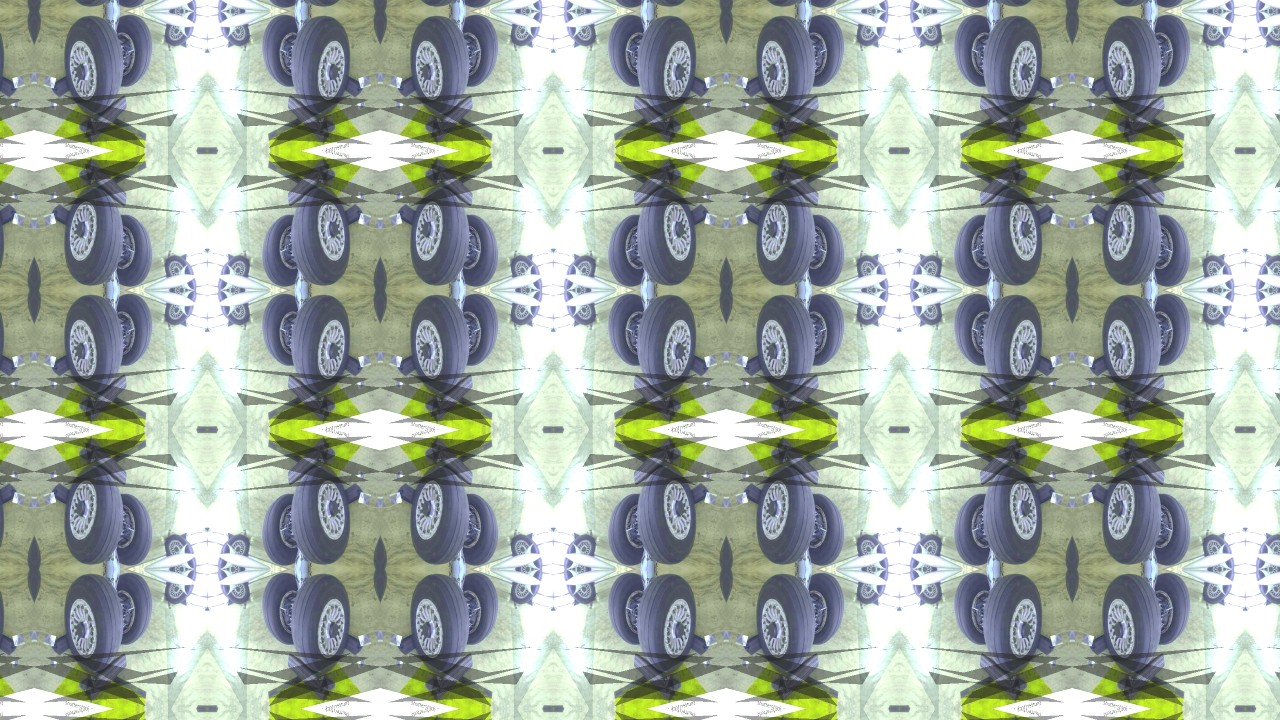chock: (78, 86, 129, 149), (283, 86, 334, 149), (425, 86, 476, 149), (630, 86, 681, 149), (772, 86, 823, 149), (977, 86, 1028, 149), (1119, 86, 1170, 149), (78, 151, 129, 214), (283, 151, 334, 214), (425, 151, 476, 214), (630, 151, 681, 214), (772, 151, 823, 214), (977, 151, 1028, 214), (1119, 151, 1170, 214), (78, 366, 129, 429), (283, 366, 334, 429), (425, 366, 476, 429), (630, 366, 681, 429), (772, 366, 823, 429), (977, 366, 1028, 429), (1119, 366, 1170, 429), (78, 431, 129, 494), (283, 431, 334, 494), (425, 431, 476, 494), (630, 431, 681, 494), (772, 431, 823, 494), (977, 431, 1028, 494), (1119, 431, 1170, 494), (78, 646, 129, 709), (283, 646, 334, 709), (425, 646, 476, 709), (630, 646, 681, 709), (772, 646, 823, 709), (977, 646, 1028, 709), (1119, 646, 1170, 709), (48, 68, 81, 100), (331, 68, 364, 100), (395, 68, 428, 100), (678, 68, 711, 100), (742, 68, 775, 100), (1025, 68, 1058, 100), (1089, 68, 1122, 100), (48, 200, 81, 232), (331, 200, 364, 232), (395, 200, 428, 232), (678, 200, 711, 232), (742, 200, 775, 232), (1025, 200, 1058, 232), (1089, 200, 1122, 232), (48, 348, 81, 380), (331, 348, 364, 380), (395, 348, 428, 380), (678, 348, 711, 380), (742, 348, 775, 380), (1025, 348, 1058, 380), (1089, 348, 1122, 380), (48, 480, 81, 512), (331, 480, 364, 512), (395, 480, 428, 512), (678, 480, 711, 512), (742, 480, 775, 512), (1025, 480, 1058, 512), (1089, 480, 1122, 512), (48, 628, 81, 660), (331, 628, 364, 660), (395, 628, 428, 660), (678, 628, 711, 660), (742, 628, 775, 660), (1025, 628, 1058, 660), (1089, 628, 1122, 660), (0, 68, 17, 100), (0, 200, 17, 232), (0, 348, 17, 380), (0, 480, 17, 512), (0, 628, 17, 660), (78, 711, 129, 720), (283, 711, 334, 720), (425, 711, 476, 720), (630, 711, 681, 720), (772, 711, 823, 720), (977, 711, 1028, 720), (1119, 711, 1170, 720), (76, 114, 96, 134), (316, 114, 336, 134), (423, 114, 443, 134), (663, 114, 683, 134), (770, 114, 790, 134), (1010, 114, 1030, 134), (1117, 114, 1137, 134), (76, 166, 96, 186), (316, 166, 336, 186), (423, 166, 443, 186), (663, 166, 683, 186), (770, 166, 790, 186), (1010, 166, 1030, 186), (1117, 166, 1137, 186), (76, 394, 96, 414), (316, 394, 336, 414), (423, 394, 443, 414), (663, 394, 683, 414), (770, 394, 790, 414), (1010, 394, 1030, 414), (1117, 394, 1137, 414), (76, 446, 96, 466), (316, 446, 336, 466), (423, 446, 443, 466), (663, 446, 683, 466), (770, 446, 790, 466), (1010, 446, 1030, 466), (1117, 446, 1137, 466), (76, 674, 96, 694), (316, 674, 336, 694), (423, 674, 443, 694), (663, 674, 683, 694), (770, 674, 790, 694), (1010, 674, 1030, 694), (1117, 674, 1137, 694), (10, 75, 23, 87), (42, 75, 55, 87), (357, 75, 370, 87), (389, 75, 402, 87), (704, 75, 717, 87), (736, 75, 749, 87), (1051, 75, 1064, 87), (1083, 75, 1096, 87), (10, 213, 23, 225), (42, 213, 55, 225), (357, 213, 370, 225), (389, 213, 402, 225), (704, 213, 717, 225), (736, 213, 749, 225), (1051, 213, 1064, 225), (1083, 213, 1096, 225), (10, 355, 23, 367), (42, 355, 55, 367), (357, 355, 370, 367), (389, 355, 402, 367), (704, 355, 717, 367), (736, 355, 749, 367), (1051, 355, 1064, 367), (1083, 355, 1096, 367), (10, 493, 23, 505), (42, 493, 55, 505), (357, 493, 370, 505), (389, 493, 402, 505), (704, 493, 717, 505), (736, 493, 749, 505), (1051, 493, 1064, 505), (1083, 493, 1096, 505), (10, 635, 23, 647), (42, 635, 55, 647), (357, 635, 370, 647), (389, 635, 402, 647), (704, 635, 717, 647), (736, 635, 749, 647), (1051, 635, 1064, 647), (1083, 635, 1096, 647), (179, 38, 189, 48), (223, 38, 233, 48), (526, 38, 536, 48), (570, 38, 580, 48), (873, 38, 883, 48), (917, 38, 927, 48), (1220, 38, 1230, 48), (1264, 38, 1274, 48), (179, 252, 189, 262), (223, 252, 233, 262), (526, 252, 536, 262), (570, 252, 580, 262), (873, 252, 883, 262), (917, 252, 927, 262), (1220, 252, 1230, 262), (1264, 252, 1274, 262), (179, 318, 189, 328), (223, 318, 233, 328), (526, 318, 536, 328), (570, 318, 580, 328), (873, 318, 883, 328), (917, 318, 927, 328), (1220, 318, 1230, 328), (1264, 318, 1274, 328), (179, 532, 189, 542), (223, 532, 233, 542), (526, 532, 536, 542), (570, 532, 580, 542), (873, 532, 883, 542), (917, 532, 927, 542), (1220, 532, 1230, 542), (1264, 532, 1274, 542), (179, 598, 189, 608), (223, 598, 233, 608), (526, 598, 536, 608), (570, 598, 580, 608), (873, 598, 883, 608), (917, 598, 927, 608), (1220, 598, 1230, 608), (1264, 598, 1274, 608), (32, 70, 37, 83), (375, 70, 380, 83), (32, 217, 37, 230), (375, 217, 380, 230), (32, 350, 37, 363), (375, 350, 380, 363), (32, 497, 37, 510), (375, 497, 380, 510), (32, 630, 37, 643), (375, 630, 380, 643), (9, 101, 17, 109), (48, 101, 56, 109), (356, 101, 364, 109), (395, 101, 403, 109), (703, 101, 711, 109), (742, 101, 750, 109), (1050, 101, 1058, 109), (1089, 101, 1097, 109), (9, 191, 17, 199), (48, 191, 56, 199), (356, 191, 364, 199), (395, 191, 403, 199), (703, 191, 711, 199), (742, 191, 750, 199), (1050, 191, 1058, 199), (1089, 191, 1097, 199), (9, 381, 17, 389), (48, 381, 56, 389), (356, 381, 364, 389), (395, 381, 403, 389), (703, 381, 711, 389), (742, 381, 750, 389), (1050, 381, 1058, 389), (1089, 381, 1097, 389), (9, 471, 17, 479), (48, 471, 56, 479), (356, 471, 364, 479), (395, 471, 403, 479), (703, 471, 711, 479), (742, 471, 750, 479), (1050, 471, 1058, 479), (1089, 471, 1097, 479), (9, 661, 17, 669), (48, 661, 56, 669), (356, 661, 364, 669), (395, 661, 403, 669), (703, 661, 711, 669), (742, 661, 750, 669), (1050, 661, 1058, 669), (1089, 661, 1097, 669), (28, 70, 32, 83), (380, 70, 384, 83), (722, 70, 726, 83), (727, 70, 731, 83), (1069, 70, 1073, 83), (1074, 70, 1078, 83), (28, 217, 32, 230), (380, 217, 384, 230), (722, 217, 726, 230), (727, 217, 731, 230), (1069, 217, 1073, 230), (1074, 217, 1078, 230), (28, 350, 32, 363), (380, 350, 384, 363), (722, 350, 726, 363), (727, 350, 731, 363), (1069, 350, 1073, 363), (1074, 350, 1078, 363), (28, 497, 32, 510), (380, 497, 384, 510), (722, 497, 726, 510), (727, 497, 731, 510), (1069, 497, 1073, 510), (1074, 497, 1078, 510), (28, 630, 32, 643), (380, 630, 384, 643), (722, 630, 726, 643), (727, 630, 731, 643), (1069, 630, 1073, 643), (1074, 630, 1078, 643), (201, 44, 206, 54), (206, 44, 211, 54), (548, 44, 553, 54), (553, 44, 558, 54), (895, 44, 900, 54), (900, 44, 905, 54), (1242, 44, 1247, 54), (1247, 44, 1252, 54), (201, 246, 206, 256), (206, 246, 211, 256), (548, 246, 553, 256), (553, 246, 558, 256), (895, 246, 900, 256), (900, 246, 905, 256), (1242, 246, 1247, 256), (1247, 246, 1252, 256), (201, 324, 206, 334), (206, 324, 211, 334), (548, 324, 553, 334), (553, 324, 558, 334), (895, 324, 900, 334), (900, 324, 905, 334), (1242, 324, 1247, 334), (1247, 324, 1252, 334), (201, 526, 206, 536), (206, 526, 211, 536), (548, 526, 553, 536), (553, 526, 558, 536), (895, 526, 900, 536), (900, 526, 905, 536), (1242, 526, 1247, 536), (1247, 526, 1252, 536), (201, 604, 206, 614), (206, 604, 211, 614), (548, 604, 553, 614), (553, 604, 558, 614), (895, 604, 900, 614), (900, 604, 905, 614), (1242, 604, 1247, 614), (1247, 604, 1252, 614)
wheel: (48, 11, 131, 117), (281, 11, 364, 117), (395, 11, 478, 117), (628, 11, 711, 117), (742, 11, 825, 117), (975, 11, 1058, 117), (1089, 11, 1172, 117), (48, 183, 131, 289), (281, 183, 364, 289), (395, 183, 478, 289), (628, 183, 711, 289), (742, 183, 825, 289), (975, 183, 1058, 289), (1089, 183, 1172, 289), (48, 291, 131, 397), (281, 291, 364, 397), (395, 291, 478, 397), (628, 291, 711, 397), (742, 291, 825, 397), (975, 291, 1058, 397), (1089, 291, 1172, 397), (48, 463, 131, 569), (281, 463, 364, 569), (395, 463, 478, 569), (628, 463, 711, 569), (742, 463, 825, 569), (975, 463, 1058, 569), (1089, 463, 1172, 569), (48, 571, 131, 677), (281, 571, 364, 677), (395, 571, 478, 677), (628, 571, 711, 677), (742, 571, 825, 677), (975, 571, 1058, 677), (1089, 571, 1172, 677), (99, 10, 158, 91), (254, 10, 313, 91), (446, 10, 505, 91), (601, 10, 660, 91), (793, 10, 852, 91), (948, 10, 1007, 91), (1140, 10, 1199, 91), (99, 209, 158, 290), (254, 209, 313, 290), (446, 209, 505, 290), (601, 209, 660, 290), (793, 209, 852, 290), (948, 209, 1007, 290), (1140, 209, 1199, 290), (99, 290, 158, 371), (254, 290, 313, 371), (446, 290, 505, 371), (601, 290, 660, 371), (793, 290, 852, 371), (948, 290, 1007, 371), (1140, 290, 1199, 371), (99, 489, 158, 570), (254, 489, 313, 570), (446, 489, 505, 570), (601, 489, 660, 570), (793, 489, 852, 570), (948, 489, 1007, 570), (1140, 489, 1199, 570), (99, 570, 158, 651), (254, 570, 313, 651), (446, 570, 505, 651), (601, 570, 660, 651), (793, 570, 852, 651), (948, 570, 1007, 651), (1140, 570, 1199, 651), (0, 11, 17, 117), (0, 183, 17, 289), (0, 291, 17, 397), (0, 463, 17, 569), (0, 571, 17, 677), (161, 19, 192, 48), (220, 19, 251, 48), (508, 19, 539, 48), (567, 19, 598, 48), (855, 19, 886, 48), (914, 19, 945, 48), (1202, 19, 1233, 48), (161, 252, 192, 281), (220, 252, 251, 281), (508, 252, 539, 281), (567, 252, 598, 281), (855, 252, 886, 281), (914, 252, 945, 281), (1202, 252, 1233, 281), (161, 299, 192, 328), (220, 299, 251, 328), (508, 299, 539, 328), (567, 299, 598, 328), (855, 299, 886, 328), (914, 299, 945, 328), (1202, 299, 1233, 328), (161, 532, 192, 561), (220, 532, 251, 561), (508, 532, 539, 561), (567, 532, 598, 561), (855, 532, 886, 561), (914, 532, 945, 561), (1202, 532, 1233, 561), (161, 579, 192, 608), (220, 579, 251, 608), (508, 579, 539, 608), (567, 579, 598, 608), (855, 579, 886, 608), (914, 579, 945, 608), (1202, 579, 1233, 608), (99, 0, 158, 10), (254, 0, 313, 10), (446, 0, 505, 10), (601, 0, 660, 10), (793, 0, 852, 10), (948, 0, 1007, 10), (1140, 0, 1199, 10), (1261, 19, 1280, 48), (1261, 252, 1280, 281), (1261, 299, 1280, 328), (1261, 532, 1280, 561), (1261, 579, 1280, 608), (168, 10, 199, 22), (213, 10, 244, 22), (515, 10, 546, 22), (560, 10, 591, 22), (862, 10, 893, 22), (907, 10, 938, 22), (1209, 10, 1240, 22), (168, 278, 199, 290), (213, 278, 244, 290), (515, 278, 546, 290), (560, 278, 591, 290), (862, 278, 893, 290), (907, 278, 938, 290), (1209, 278, 1240, 290), (168, 290, 199, 302), (213, 290, 244, 302), (515, 290, 546, 302), (560, 290, 591, 302), (862, 290, 893, 302), (907, 290, 938, 302), (1209, 290, 1240, 302), (168, 558, 199, 570), (213, 558, 244, 570), (515, 558, 546, 570), (560, 558, 591, 570), (862, 558, 893, 570), (907, 558, 938, 570), (1209, 558, 1240, 570), (168, 570, 199, 582), (213, 570, 244, 582), (515, 570, 546, 582), (560, 570, 591, 582), (862, 570, 893, 582), (907, 570, 938, 582), (1209, 570, 1240, 582), (1254, 10, 1280, 22), (1254, 278, 1280, 290), (1254, 290, 1280, 302), (1254, 558, 1280, 570), (1254, 570, 1280, 582), (168, 0, 199, 10), (213, 0, 244, 10), (515, 0, 546, 10), (560, 0, 591, 10), (862, 0, 893, 10), (907, 0, 938, 10), (1209, 0, 1240, 10), (1254, 0, 1280, 10)
